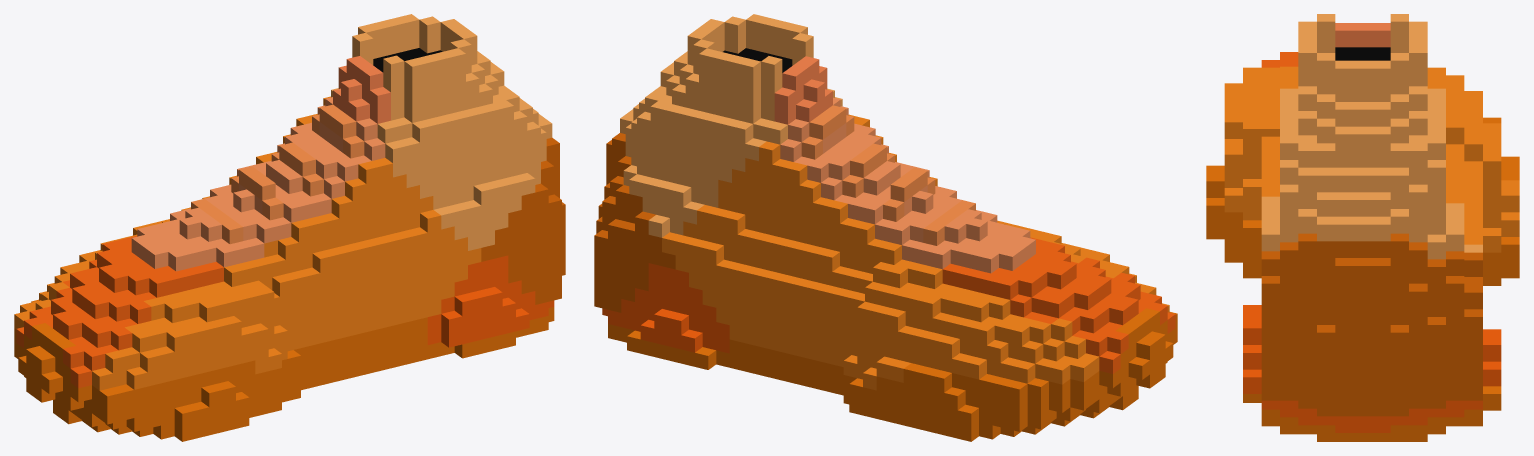
The model's file is Hi Viz Orange.fbx.
3 renders of one model, left to right at view 1: azimuth 30°, elevation 25°; view 2: azimuth 150°, elevation 25°; view 3: azimuth 270°, elevation 25°, orthographic. The views are drawn at different scales.
Visible parts, largest first — view 1: Untitled; view 2: Untitled; view 3: Untitled.
Boxes of the visible parts, x1=… form: Untitled: x1=14, y1=14, x2=565, y2=441; Untitled: x1=594, y1=14, x2=1177, y2=441; Untitled: x1=1206, y1=14, x2=1519, y2=441.
Bounding box in the file's own units: 390 × 200 × 170.
